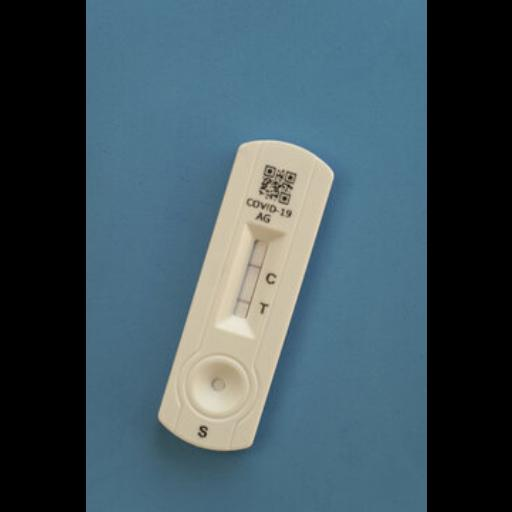Pos: (150, 133, 340, 463)
